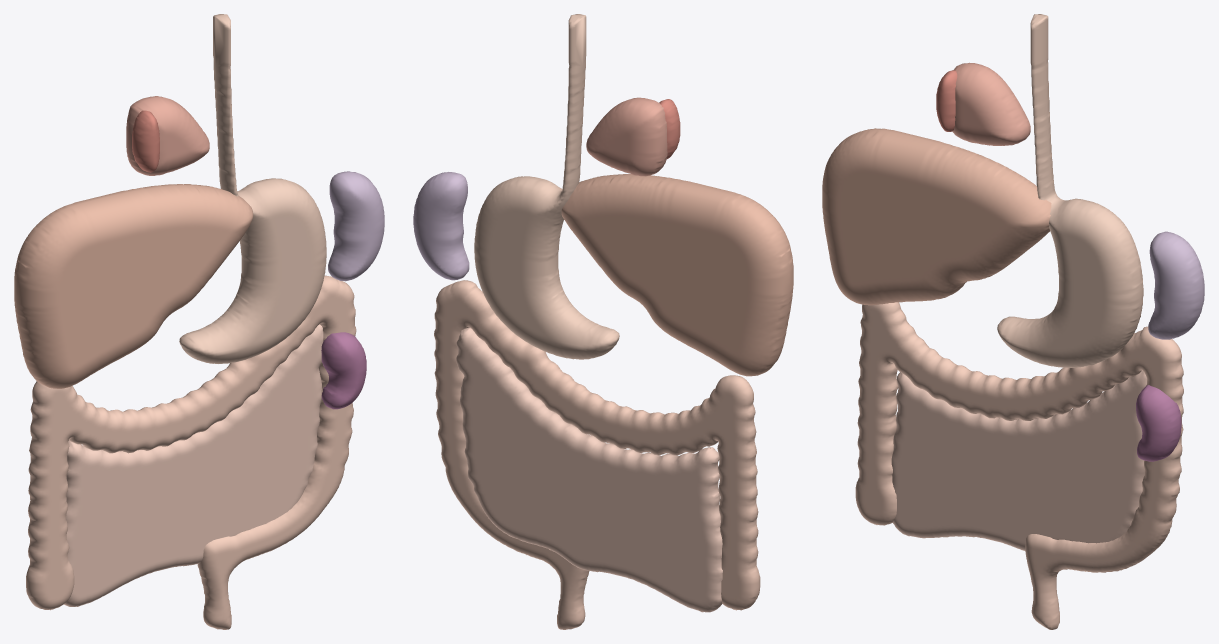
The model's file is organs-simple.glb.
3 views of the same model, side by side, from view 1: azimuth 30°, elevation 25°; view 2: azimuth 150°, elevation 25°; view 3: azimuth 330°, elevation 25° (orthographic).
Visible parts, largest first — view 1: bowel, liver, colon, stomach, spleen, heart, kidney_l, heart_ra; view 2: bowel, liver, colon, stomach, heart, spleen, heart_ra; view 3: bowel, liver, colon, stomach, heart, spleen, kidney_l, heart_ra.
Boxes of the visible parts, x1=… form: bowel: x1=64, y1=324, x2=323, y2=606; liver: x1=14, y1=184, x2=253, y2=388; colon: x1=26, y1=275, x2=356, y2=629; stomach: x1=179, y1=14, x2=326, y2=363; spleen: x1=328, y1=171, x2=384, y2=281; heart: x1=126, y1=96, x2=209, y2=175; kidney_l: x1=321, y1=332, x2=366, y2=409; heart_ra: x1=132, y1=110, x2=159, y2=172; bowel: x1=456, y1=327, x2=722, y2=612; liver: x1=561, y1=174, x2=793, y2=376; colon: x1=434, y1=280, x2=760, y2=629; stomach: x1=474, y1=14, x2=619, y2=359; heart: x1=586, y1=97, x2=667, y2=176; spleen: x1=413, y1=172, x2=469, y2=280; heart_ra: x1=659, y1=99, x2=680, y2=158; bowel: x1=891, y1=370, x2=1146, y2=550; liver: x1=822, y1=128, x2=1051, y2=305; colon: x1=855, y1=302, x2=1183, y2=629; stomach: x1=997, y1=14, x2=1143, y2=367; heart: x1=952, y1=62, x2=1030, y2=145; spleen: x1=1148, y1=231, x2=1204, y2=339; kidney_l: x1=1136, y1=385, x2=1181, y2=461; heart_ra: x1=936, y1=70, x2=957, y2=131.
Size of the model in its own units: 2.43 by 3.87 by 0.404.
